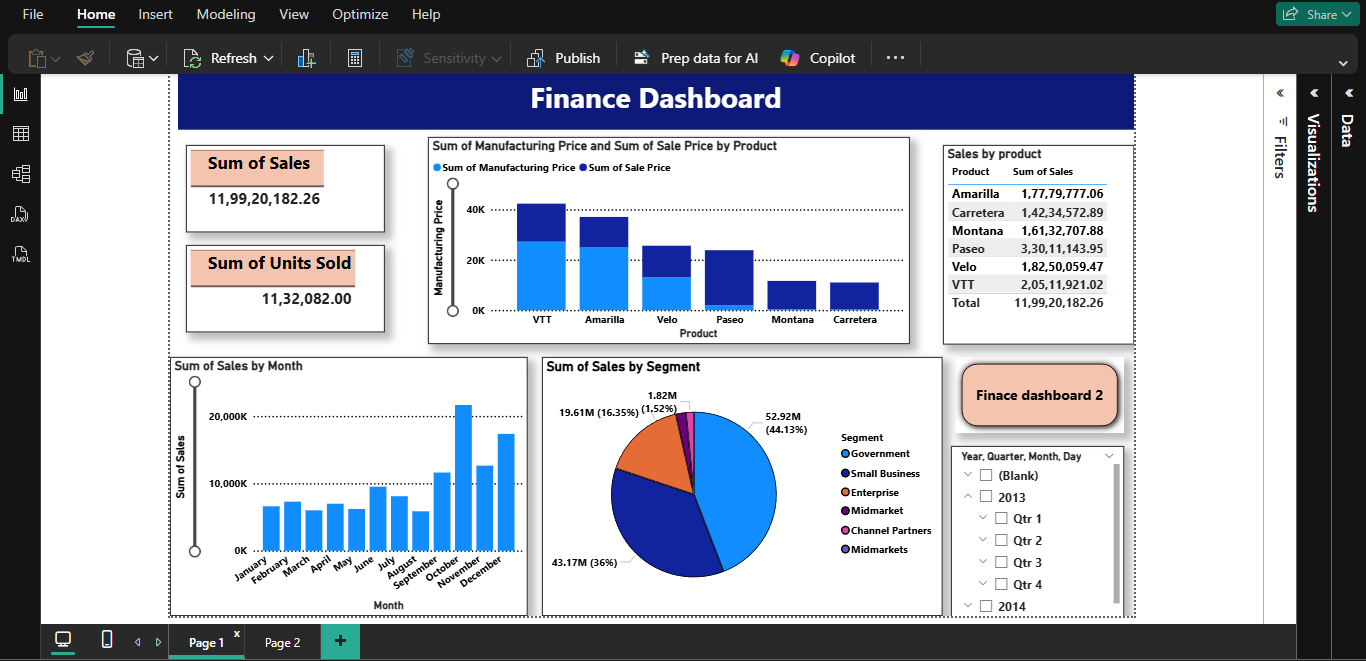

This screenshot's page, from the dashboard's own definition file:
{"tool":"powerbi","page":{"name":"Page 1","canvas":[1280,720],"ordinal":0},"visuals":[{"type":"textbox","box":[10.1,0,1269.9,73.9],"z":0},{"type":"pivotTable","fields":{"Values":["Sum(Data. Sales)"]},"box":[21.8,94.1,263.7,115.9],"z":1000},{"type":"pivotTable","fields":{"Values":["Sum(Data.Units Sold)"]},"box":[21.8,226.8,263.7,115.9],"z":2000},{"type":"clusteredColumnChart","fields":{"Y":["Sum(Data. Sales)"],"Category":["Data.Date.Variation.Date Hierarchy.Month"]},"box":[0,376.3,475.4,344.4],"z":3000},{"type":"pieChart","fields":{"Category":["Data.Segment"],"Y":["Sum(Data. Sales)"]},"box":[493.9,376.3,532.5,344.4],"z":4000},{"type":"tableEx","title":"Sales by product","fields":{"Values":["Data.Product","Sum(Data. Sales)"]},"box":[1026.4,94.1,253.6,265.4],"z":5000},{"type":"slicer","fields":{"Values":["Data.Date.Variation.Date Hierarchy.Year","Data.Date.Variation.Date Hierarchy.Quarter","Data.Date.Variation.Date Hierarchy.Month","Data.Date.Variation.Date Hierarchy.Day"]},"box":[1038.1,493.9,230.1,226.8],"z":6000},{"type":"columnChart","fields":{"Category":["Data.Product"],"Y":["Sum(Data.Manufacturing Price)","Sum(Data.Sale Price)"]},"box":[342.7,84,640,275.5],"z":7000},{"type":"shape","box":[1043.1,376.3,225.1,100.8],"z":8000}]}

Visuals, with their boxes on the page's 1280x720 design canvas (x1, y1, x2, y2). These are canvas units, not pixel positions in the 1366x661 screenshot, which may show the page scaled, cropped or inside an application window:
textbox: pyautogui.locateOnScreen(10, 0, 1280, 74)
pivotTable - Sum(Data. Sales): pyautogui.locateOnScreen(22, 94, 286, 210)
pivotTable - Sum(Data.Units Sold): pyautogui.locateOnScreen(22, 227, 286, 343)
clusteredColumnChart - Sum(Data. Sales) x Data.Date.Variation.Date Hierarchy.Month: pyautogui.locateOnScreen(0, 376, 475, 721)
pieChart - Data.Segment x Sum(Data. Sales): pyautogui.locateOnScreen(494, 376, 1026, 721)
"Sales by product" tableEx: pyautogui.locateOnScreen(1026, 94, 1280, 360)
slicer - Data.Date.Variation.Date Hierarchy.Year x Data.Date.Variation.Date Hierarchy.Quarter: pyautogui.locateOnScreen(1038, 494, 1268, 721)
columnChart - Data.Product x Sum(Data.Manufacturing Price): pyautogui.locateOnScreen(343, 84, 983, 360)
shape: pyautogui.locateOnScreen(1043, 376, 1268, 477)
